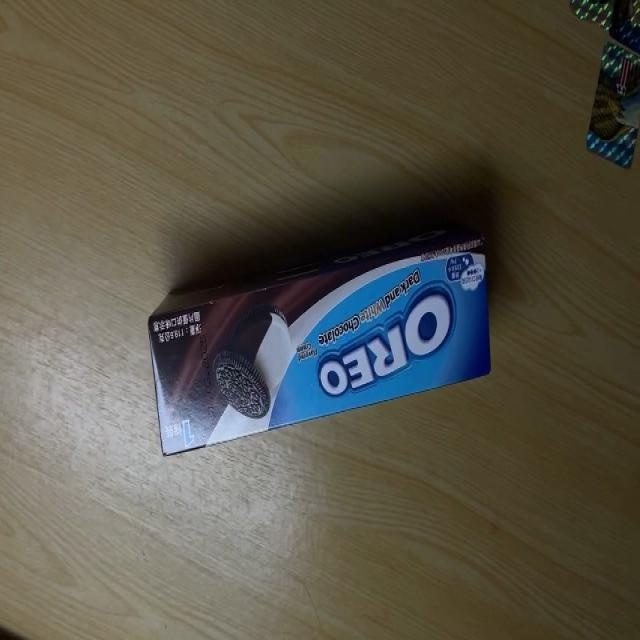Oreo: (146, 227, 491, 458)
